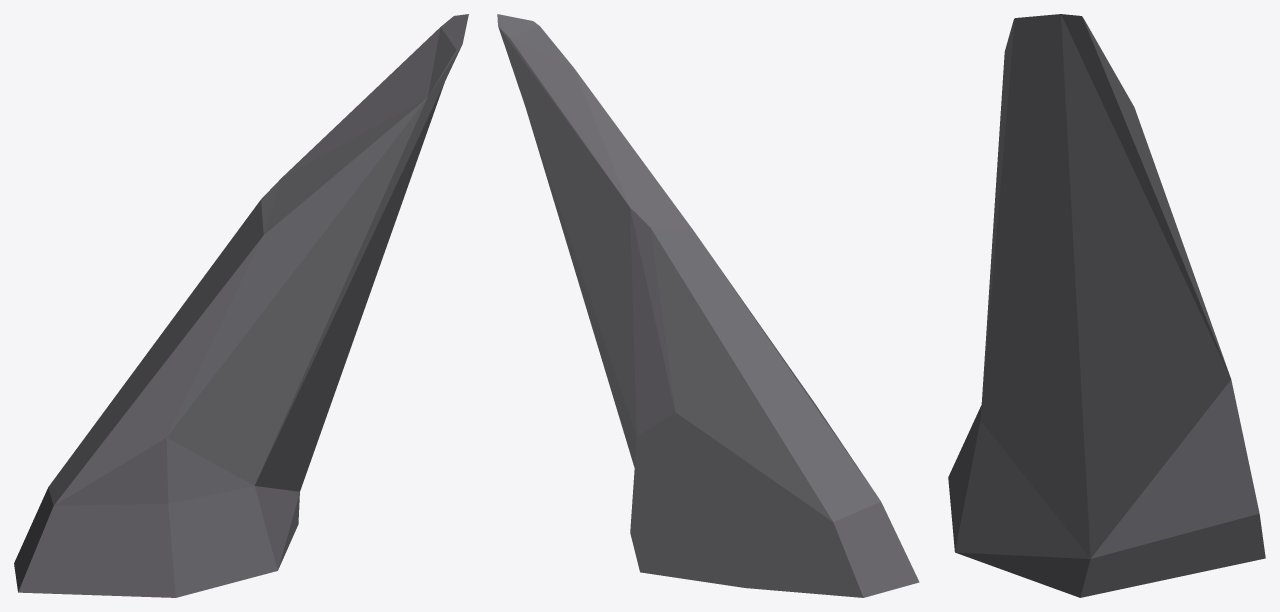
The model's file is Rock_Sharp_m_11.fbx.
3 views of the same model, side by side, from view 1: azimuth 30°, elevation 25°; view 2: azimuth 150°, elevation 25°; view 3: azimuth 270°, elevation 25° (orthographic). The views are drawn at different scales.
Visible parts, largest first — view 1: Rock_Sharp_m_11; view 2: Rock_Sharp_m_11; view 3: Rock_Sharp_m_11.
Part boxes in pixels (<box>): Rock_Sharp_m_11: <box>14,14,468,597</box>; Rock_Sharp_m_11: <box>497,14,919,597</box>; Rock_Sharp_m_11: <box>948,14,1265,597</box>.
Bounding box in the file's own units: 155 × 159 × 64.98.
